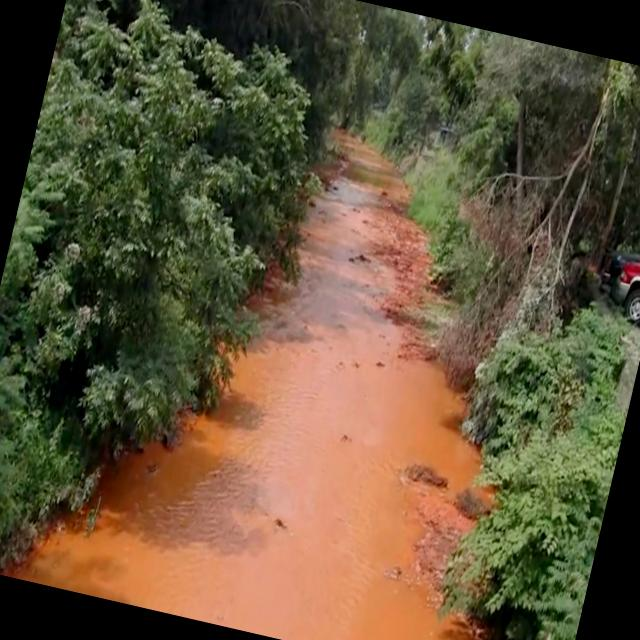yellow_boy: (19, 136, 478, 640)
